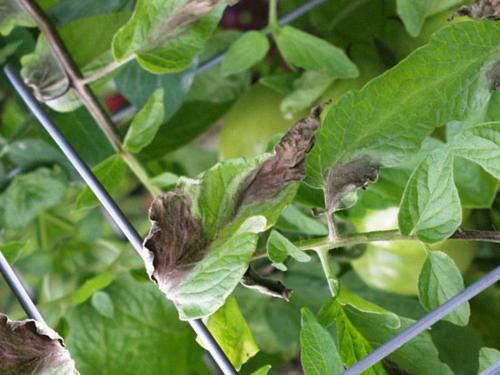Tomato leaf late blight: (112, 85, 394, 337), (257, 45, 455, 239), (88, 0, 290, 110)
